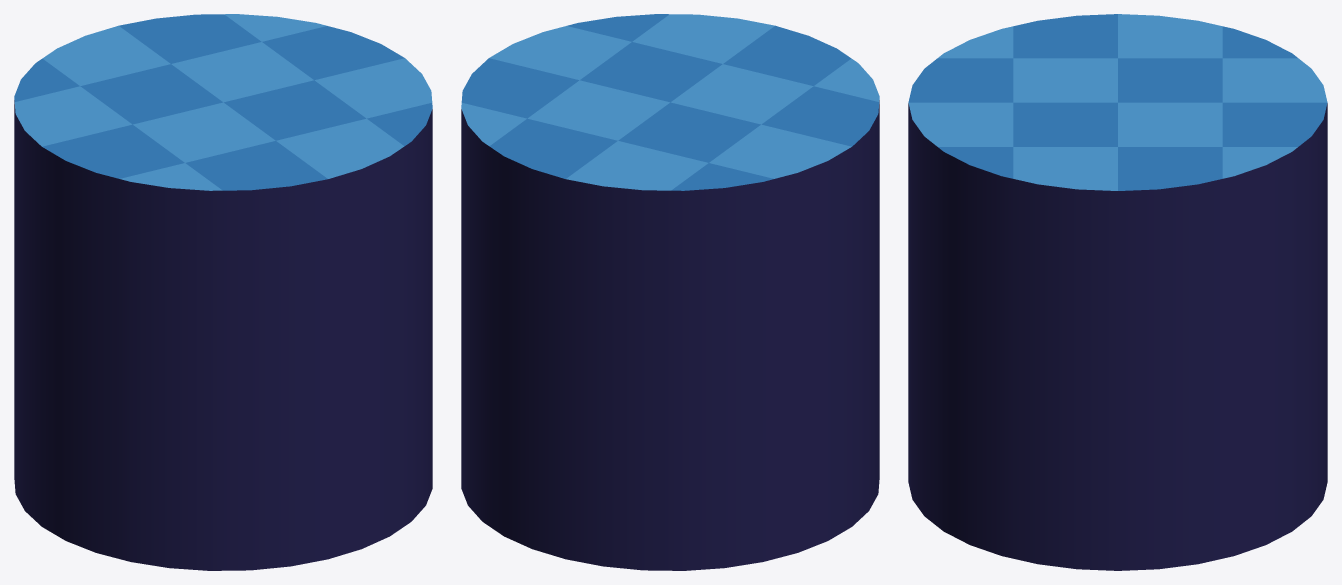
The model's file is cyl_blue.glb.
3 renders of one model, left to right at view 1: azimuth 30°, elevation 25°; view 2: azimuth 150°, elevation 25°; view 3: azimuth 270°, elevation 25°, orthographic.
Visible parts, largest first — view 1: Body; view 2: Body; view 3: Body.
Part boxes in pixels (left/top/right/bottom): Body: left=14, top=14, right=432, bottom=570; Body: left=461, top=14, right=879, bottom=570; Body: left=908, top=14, right=1327, bottom=570.
Bounding box in the file's own units: 1 × 1 × 1.
